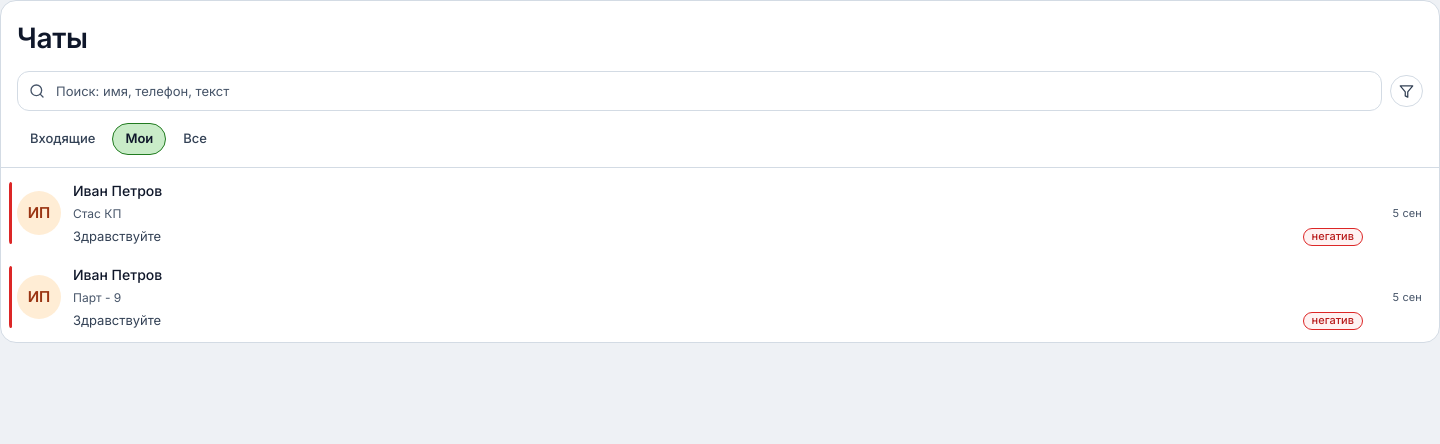
it: Набор полей фильтра по вкладкам › на «Мои» этих полей нет — вкладка на них уже ответила
Step 1. Click the button named "Фильтры" → [1406, 91], box [1390,75,1423,107]
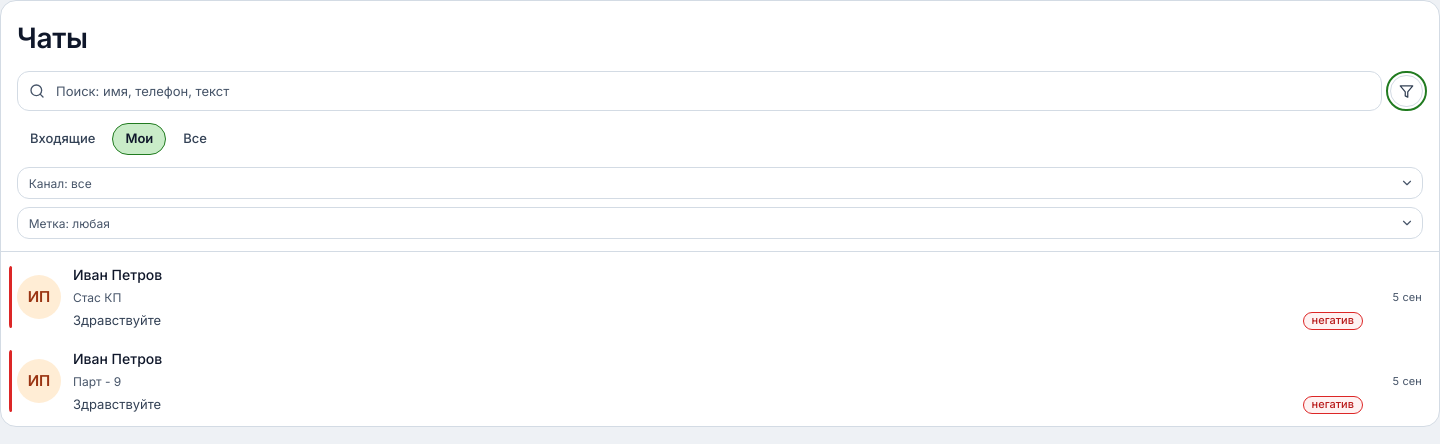
Expected: the field named "Фильтр по каналу" is shown, [17,167,1423,199]
Expected: the field named "Фильтр по метке" is shown, [17,207,1423,239]
